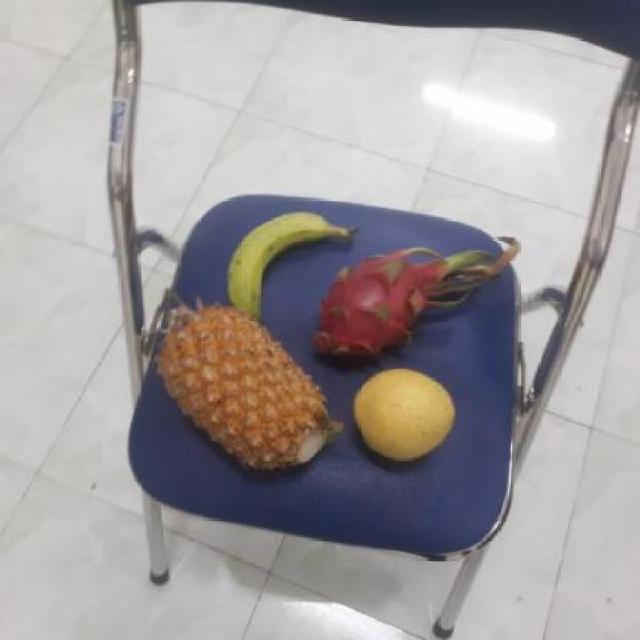banana: (213, 208, 344, 322)
dragon fruit: (310, 250, 458, 368)
pear: (348, 372, 458, 466)
pineapple: (154, 300, 331, 472)
